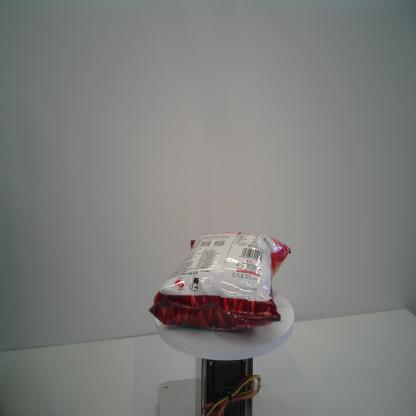Puffed Food: (148, 231, 292, 332)
